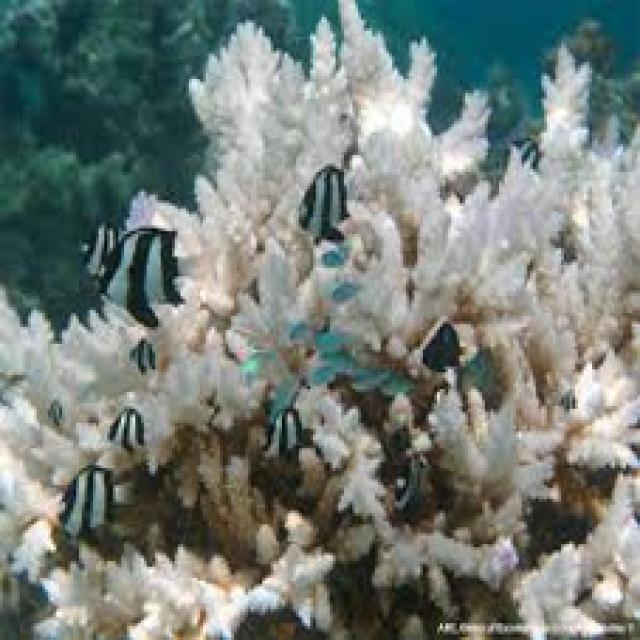Bleached: (469, 131, 640, 430), (197, 32, 453, 182), (43, 543, 332, 640), (438, 372, 640, 507), (180, 163, 308, 344), (365, 189, 498, 333), (1, 287, 61, 582), (518, 493, 640, 638), (298, 394, 398, 541), (154, 336, 251, 439), (364, 537, 525, 591), (56, 312, 142, 406), (533, 51, 592, 173), (25, 402, 112, 467)
